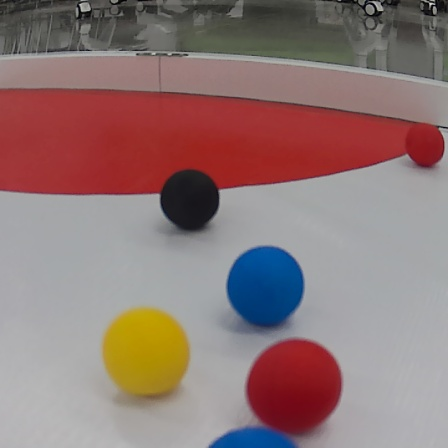black: (161, 167, 229, 232)
blue: (221, 246, 309, 325), (207, 425, 311, 448)
red: (241, 339, 343, 435), (408, 121, 445, 174)
red_base: (1, 79, 443, 200)
yellow: (99, 305, 192, 398)
